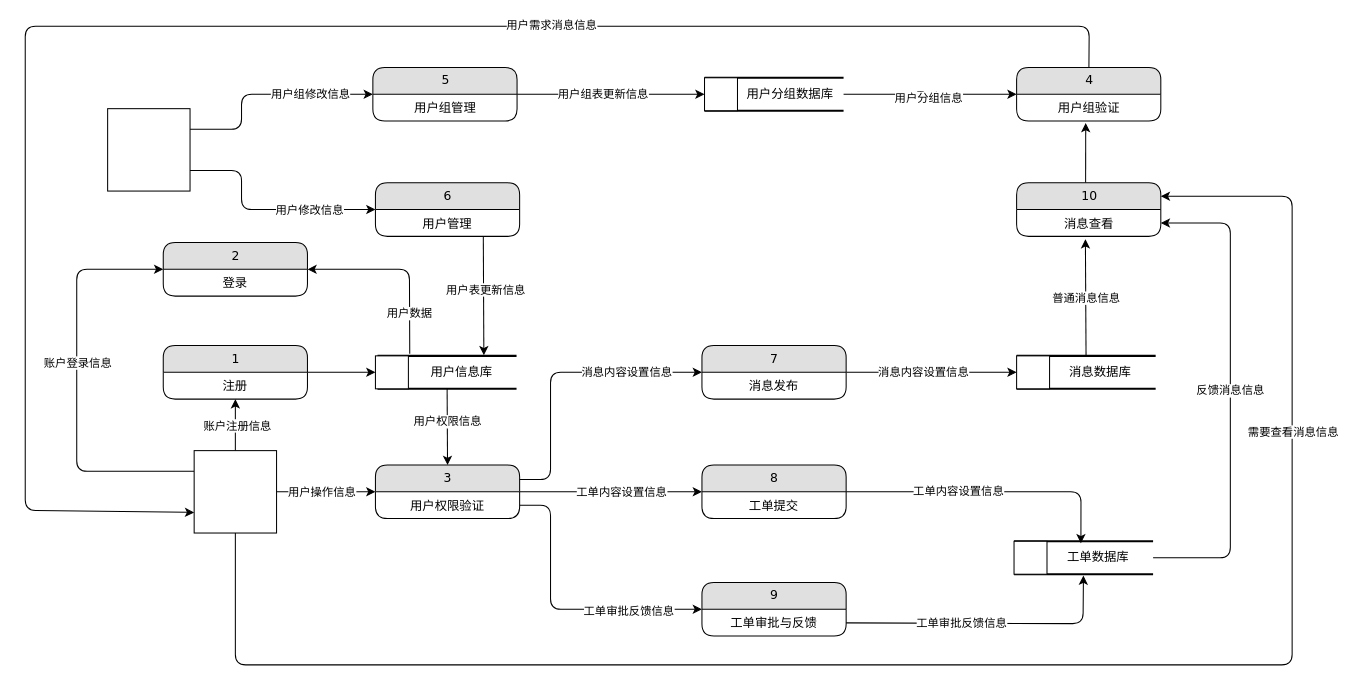
The diagram is 1355 pixels wide and 691 high, and some of its shapes have lost their labels. The shapes that lost their labels are listed below. From the top down, each one's centre as x and y in pixels, then its label:
At pixel 148 149: "管理员".
At pixel 235 491: "看板用户".
